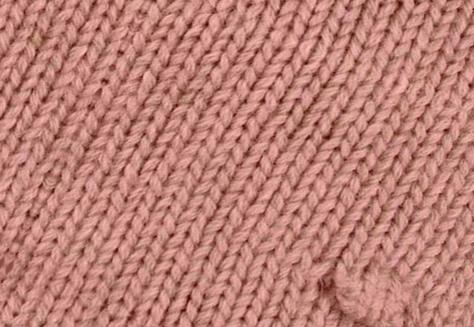knot: (325, 252, 427, 326)
